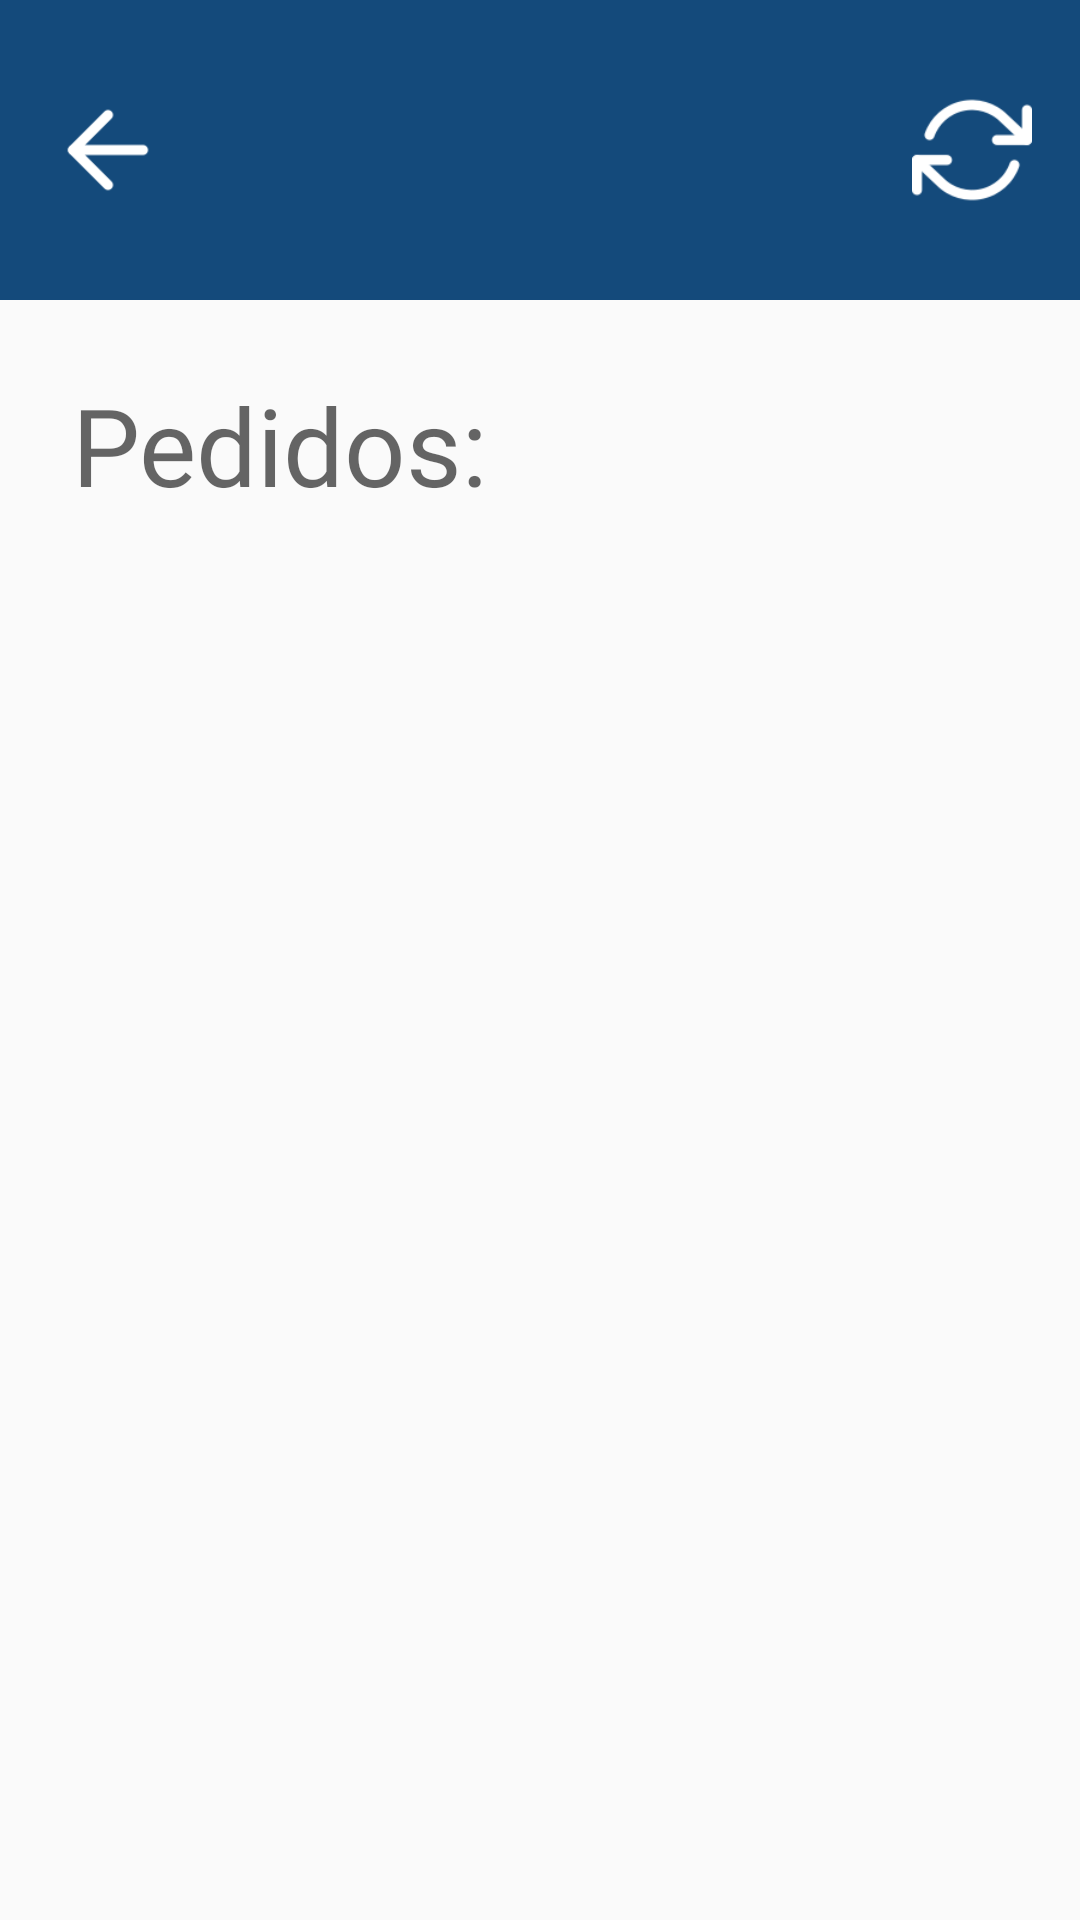

Screen size 1080x1920. Icon name, then its box in pixels as (left=x1, top=y1, right=x2, bottom=y2):
Recarregar: (left=912, top=99, right=1032, bottom=201)
Voltar: (left=67, top=109, right=149, bottom=191)
